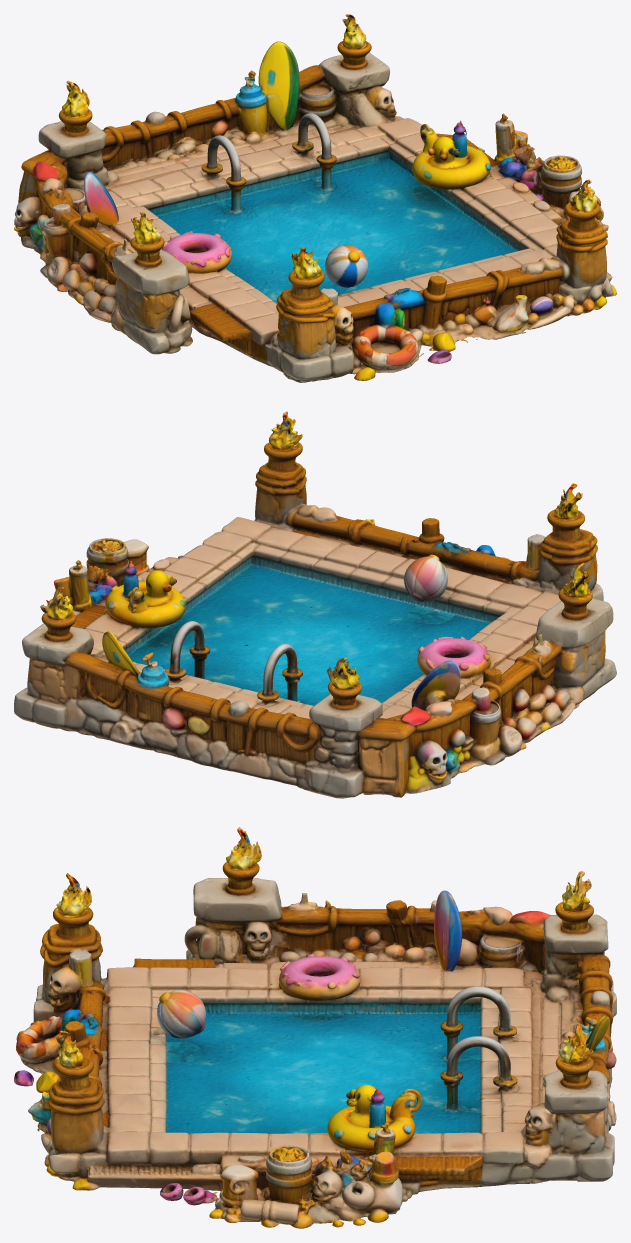
File: pool.final.glb
The picture shows the model from 3 angles, top to bottom: view 1: azimuth 30°, elevation 25°; view 2: azimuth 150°, elevation 25°; view 3: azimuth 270°, elevation 25°; orthographic projection. The views are drawn at different scales.
Size of the model in its own units: 1.9 by 0.4704 by 1.8.
Materials: 1 (1 with a texture image).
